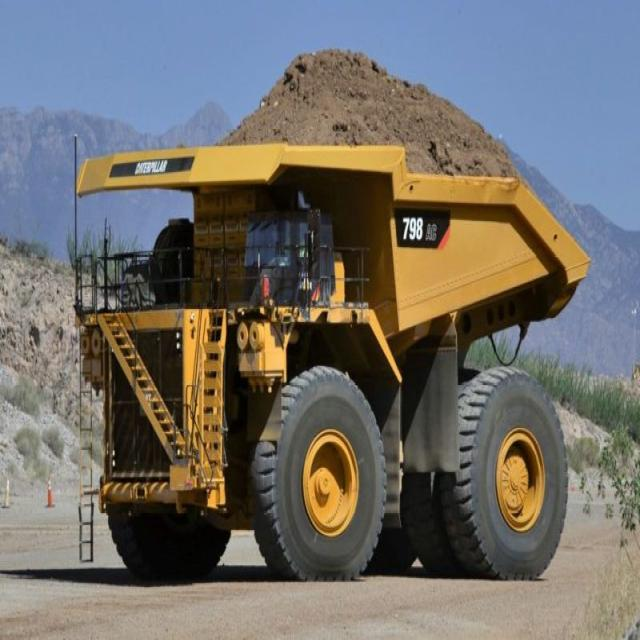dump_truck: (70, 35, 586, 595)
